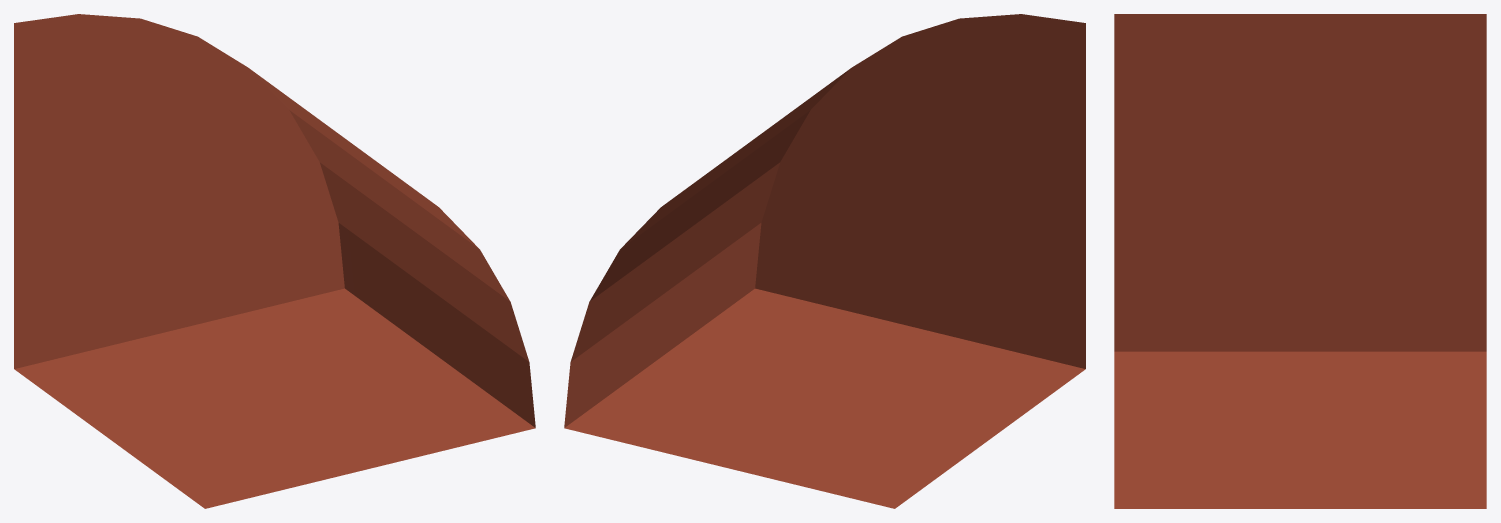
Rendered from r4c3_border_brown.gltf.
3 renders of one model, left to right at view 1: azimuth 30°, elevation 25°; view 2: azimuth 150°, elevation 25°; view 3: azimuth 270°, elevation 25°, orthographic. The views are drawn at different scales.
Parts seen in each view (by area): view 1: r4c3_border_brown; view 2: r4c3_border_brown; view 3: r4c3_border_brown.
Boxes of the visible parts, x1=… form: r4c3_border_brown: x1=14, y1=14, x2=535, y2=508; r4c3_border_brown: x1=564, y1=14, x2=1085, y2=508; r4c3_border_brown: x1=1114, y1=14, x2=1486, y2=508.
Size of the model in its own units: 2 by 2 by 2.
1 material, 1 textured.
